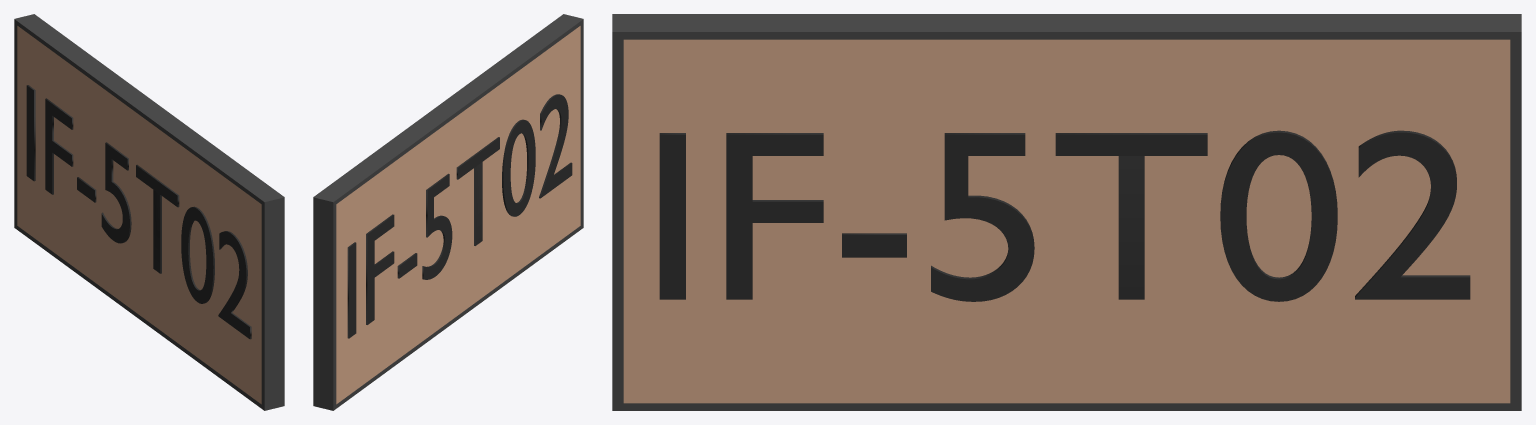
3 renders of one model, left to right at view 1: azimuth 30°, elevation 25°; view 2: azimuth 150°, elevation 25°; view 3: azimuth 270°, elevation 25°, orthographic. The views are drawn at different scales.
Visible parts, largest first — view 1: Cube; view 2: Cube; view 3: Cube.
Boxes of the visible parts, x1,y1,x2,y2 form: Cube: (14,14,284,410); Cube: (313,14,583,410); Cube: (612,14,1521,410).
Size of the model in its own units: 12.6 by 105 by 229.
